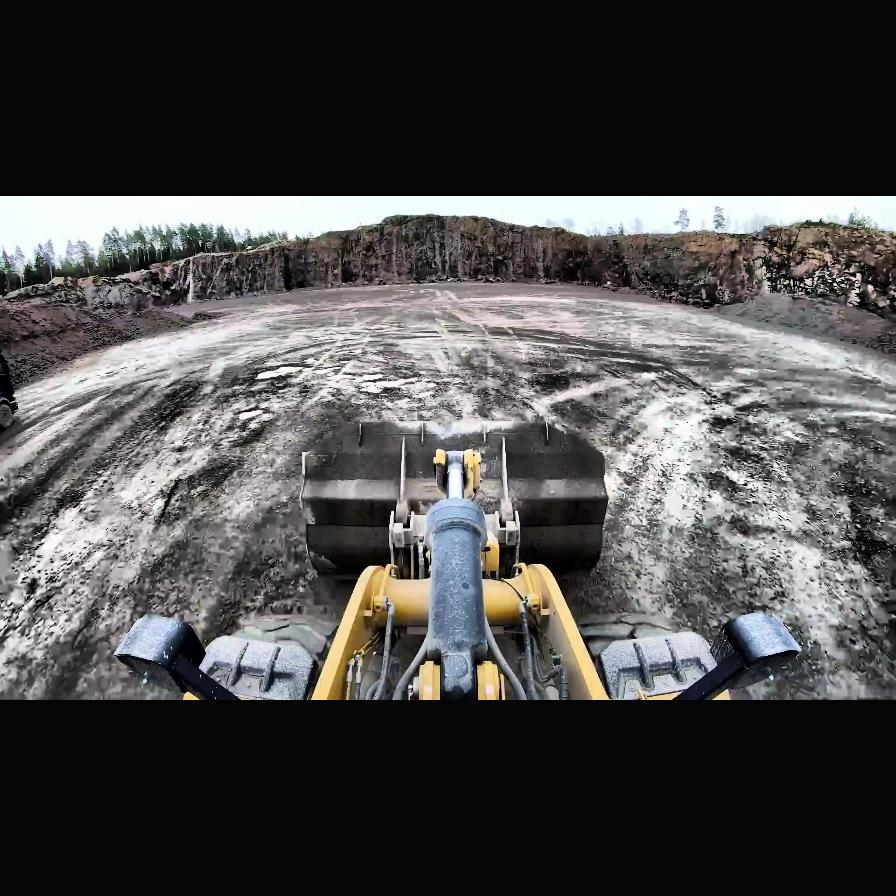anchor: (434, 449, 482, 503)
pile of gravel: (0, 301, 192, 385), (700, 288, 896, 362)
